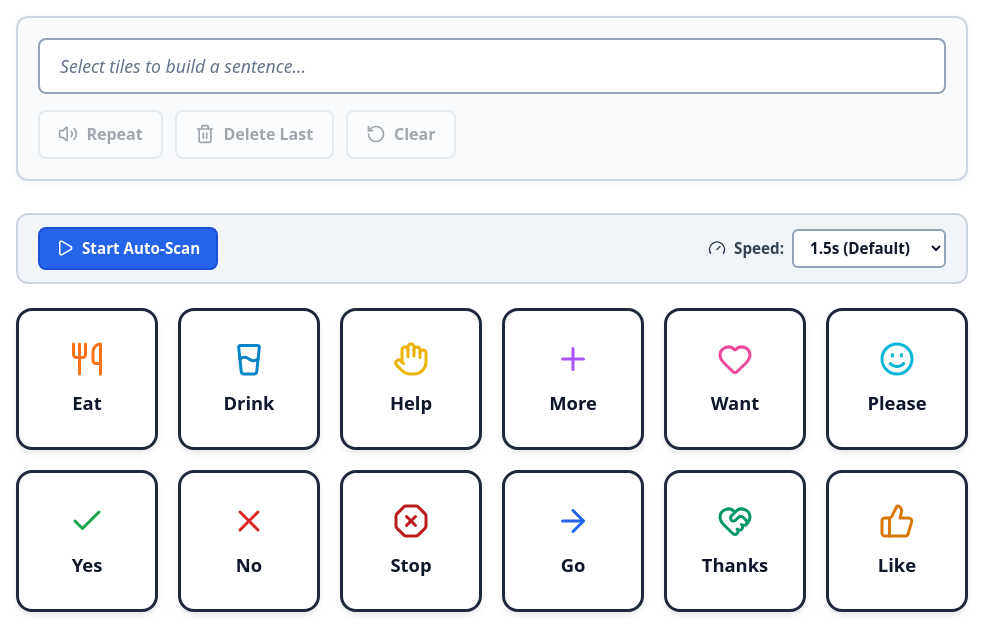
Test case: AACBoard › appends selected tile label to the sentence bar
Click the button "Eat" at (87, 379), box left=16, top=308, right=158, bottom=450
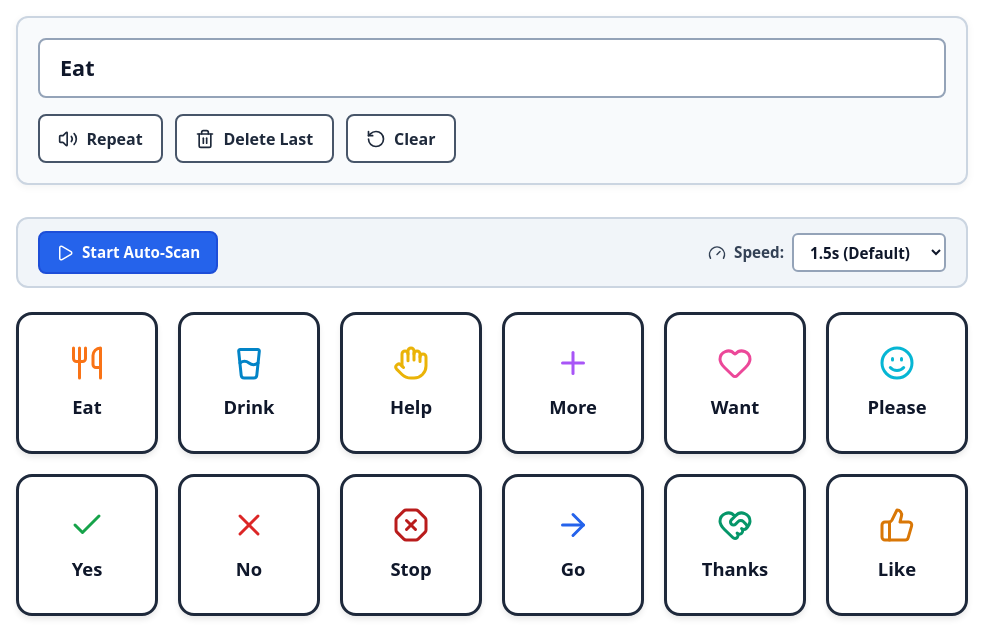
Now the message reads "Eat", box left=60, top=53, right=94, bottom=82
